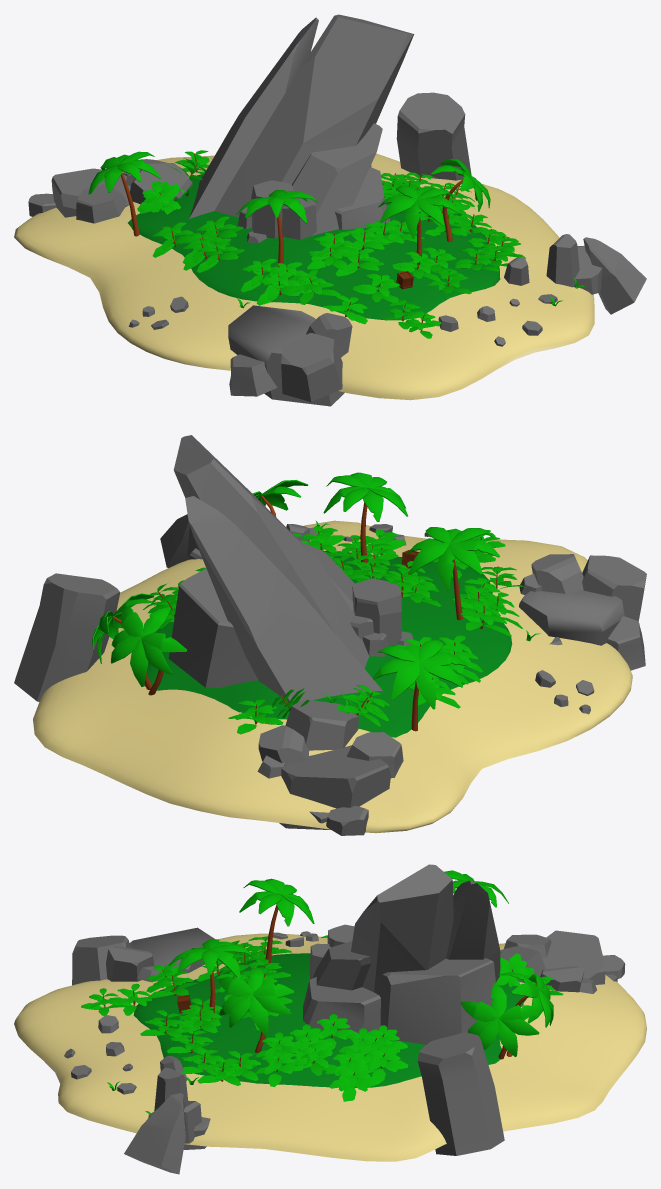
File: Island_big.fbx
The picture shows the model from 3 angles, top to bottom: view 1: azimuth 30°, elevation 25°; view 2: azimuth 150°, elevation 25°; view 3: azimuth 270°, elevation 25°; orthographic projection. The views are drawn at different scales.
Parts seen in each view (by area): view 1: Island_big; view 2: Island_big; view 3: Island_big.
Part boxes in pixels (bbox=[...]): Island_big: bbox=[14, 14, 646, 406]; Island_big: bbox=[14, 435, 646, 835]; Island_big: bbox=[14, 864, 646, 1174].
Size of the model in its own units: 8298 by 5152 by 9787.
